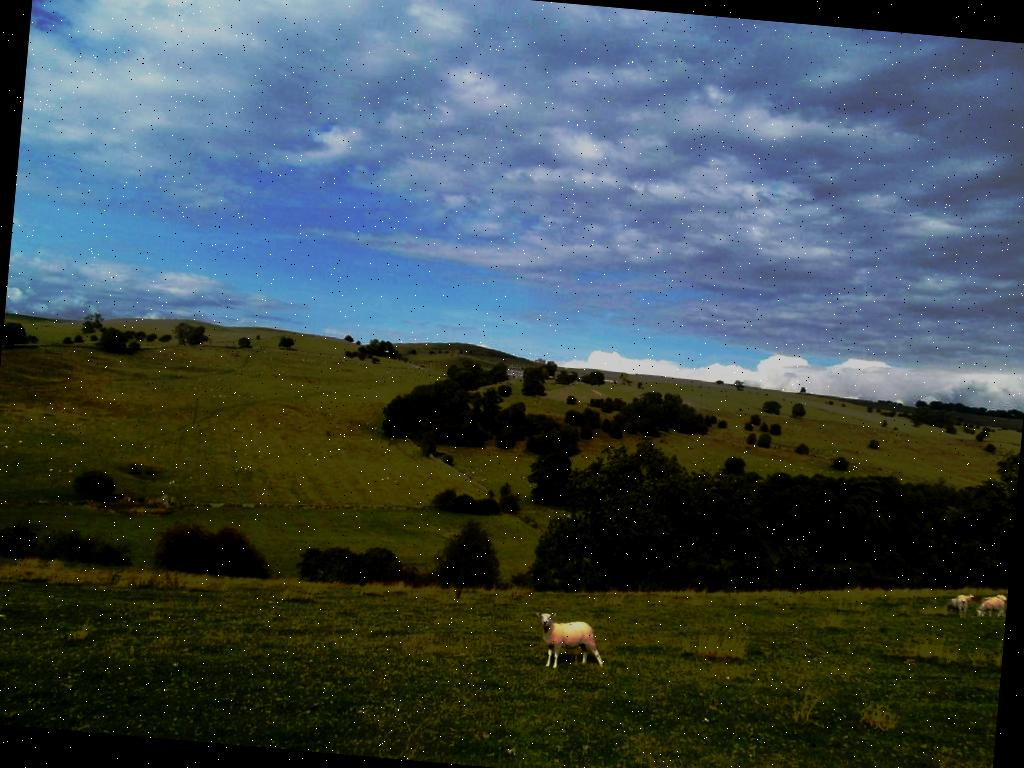Sheep: (528, 610, 606, 680), (972, 596, 1006, 622)
